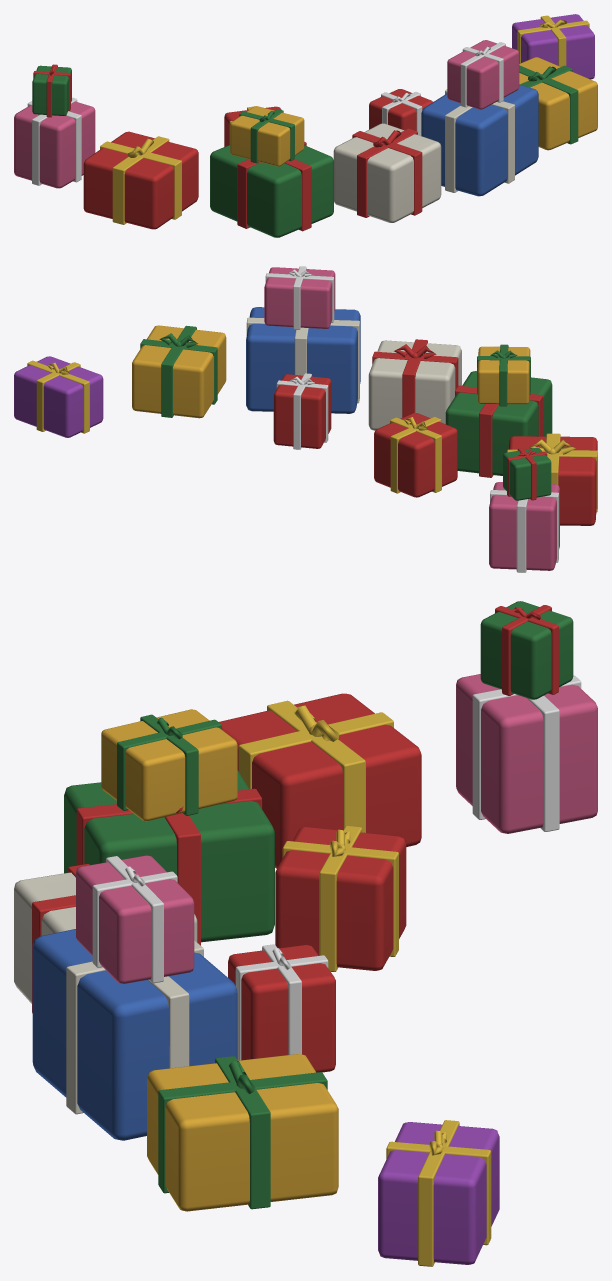
Rendered from grand_presents.glb.
3 renders of one model, top to bottom at view 1: azimuth 30°, elevation 25°; view 2: azimuth 150°, elevation 25°; view 3: azimuth 270°, elevation 25°, orthographic. The views are drawn at different scales.
Visible parts, largest first — view 1: grand_presents_main; view 2: grand_presents_main; view 3: grand_presents_main.
Part boxes in pixels (x1=…): grand_presents_main: x1=14, y1=14, x2=597, y2=237; grand_presents_main: x1=14, y1=266, x2=597, y2=572; grand_presents_main: x1=14, y1=601, x2=597, y2=1266.
Bounding box in the file's own units: 2.38 × 0.5191 × 1.19.
